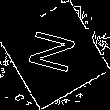N_E: (25, 29, 85, 81)
